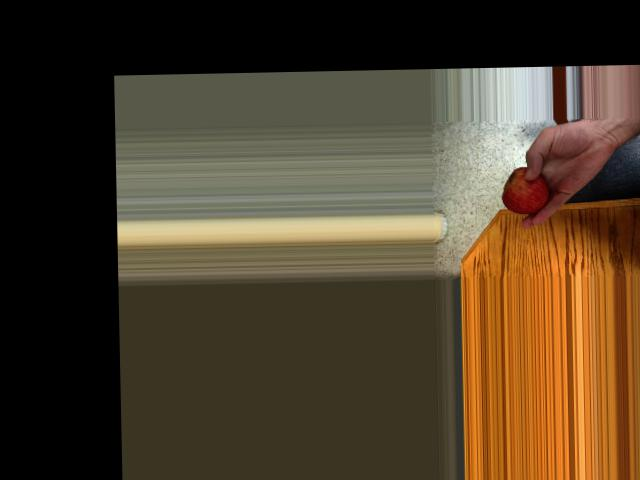apple: (498, 163, 559, 216)
